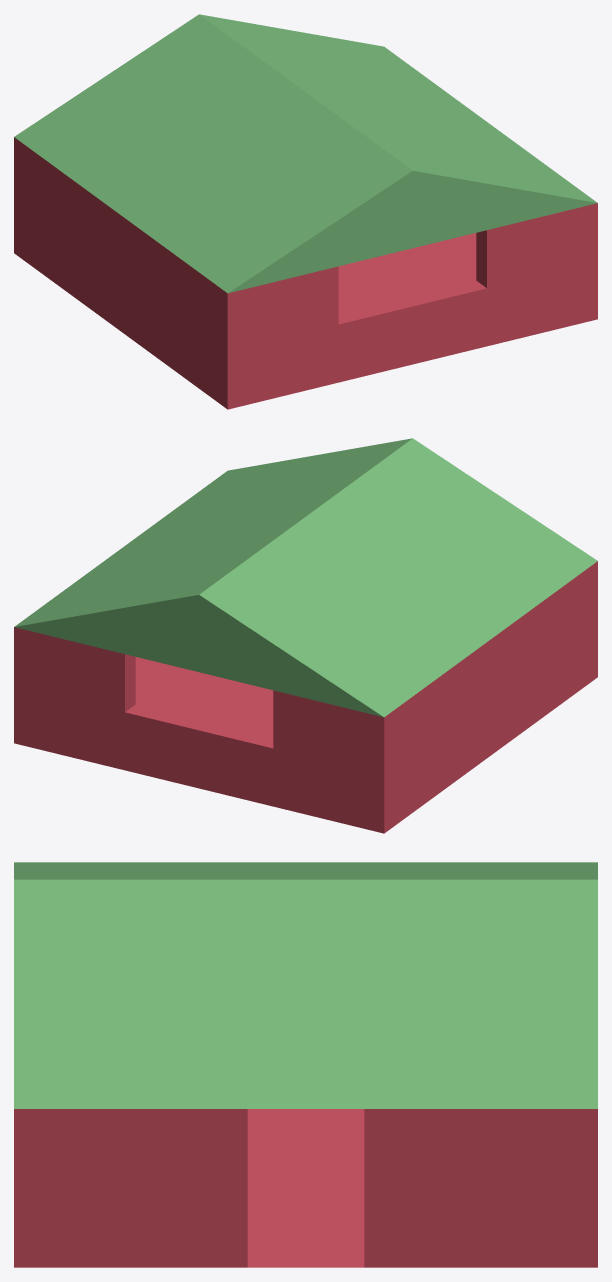
File: Powerful Wluff-Allis (1).glb
The picture shows the model from 3 angles, top to bottom: view 1: azimuth 30°, elevation 25°; view 2: azimuth 150°, elevation 25°; view 3: azimuth 270°, elevation 25°; orthographic projection. The views are drawn at different scales.
Visible parts, largest first — view 1: Mesh_Mesh_head_geo.001_lambert2SG.001; view 2: Mesh_Mesh_head_geo.001_lambert2SG.001; view 3: Mesh_Mesh_head_geo.001_lambert2SG.001.
Boxes of the visible parts, x1,y1,x2,y2 form: Mesh_Mesh_head_geo.001_lambert2SG.001: (14, 14, 597, 409); Mesh_Mesh_head_geo.001_lambert2SG.001: (14, 438, 597, 833); Mesh_Mesh_head_geo.001_lambert2SG.001: (14, 862, 597, 1267).
Size of the model in its own units: 0.2 by 0.1 by 0.2.
